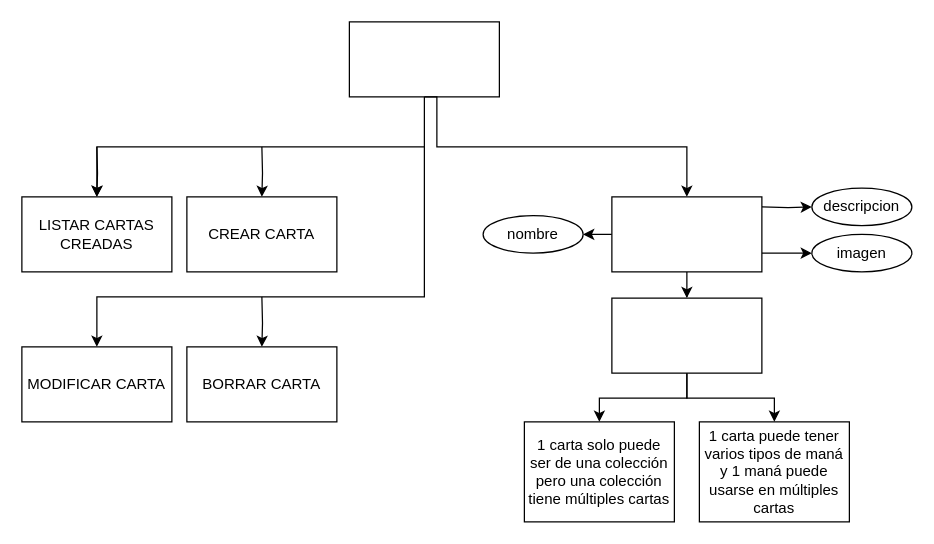
Image size: 934x544. Some labels were removed from this diagram. Each missing label, with the centre of its shape:
"COLECCION" goes at point (423, 59).
"DATOS EXTRA" goes at point (686, 335).
"DATOS MINIMOS NECESARIOS" goes at point (686, 234).
